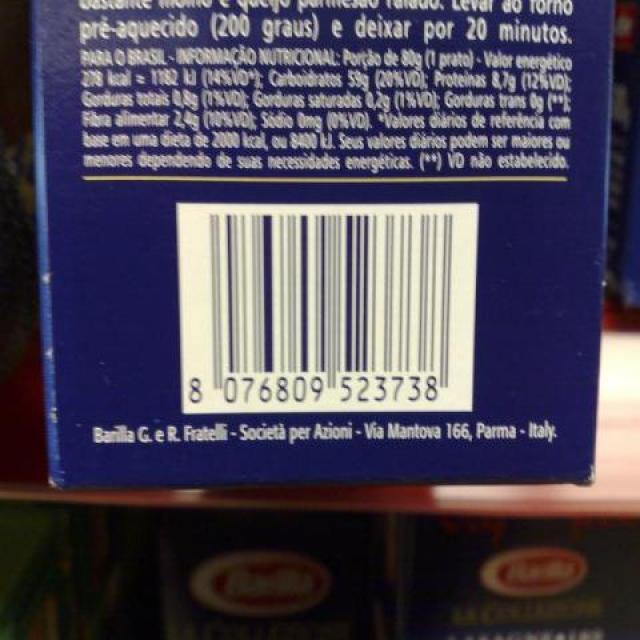Barcode: (176, 201, 479, 411)
